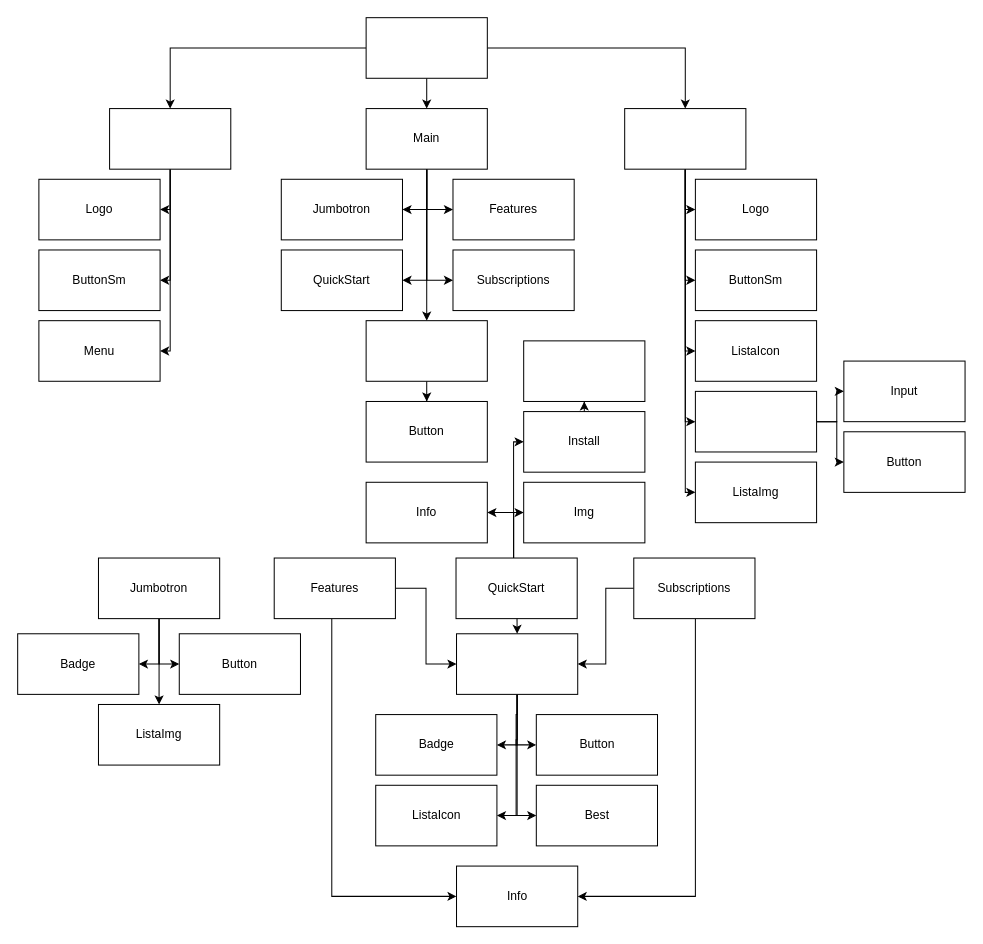
The diagram is 983 pixels wide and 944 high, and some of its shapes have lost their labels. Each missing label, with the box of its shape:
App: (365, 17, 487, 78)
CardType: (456, 633, 578, 694)
Contact: (365, 320, 487, 381)
Footer: (624, 108, 746, 169)
Header: (109, 108, 231, 169)
LiastIcon: (523, 340, 645, 401)
Subscribe: (694, 390, 817, 452)
